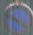No waiting: (1, 3, 32, 33)
